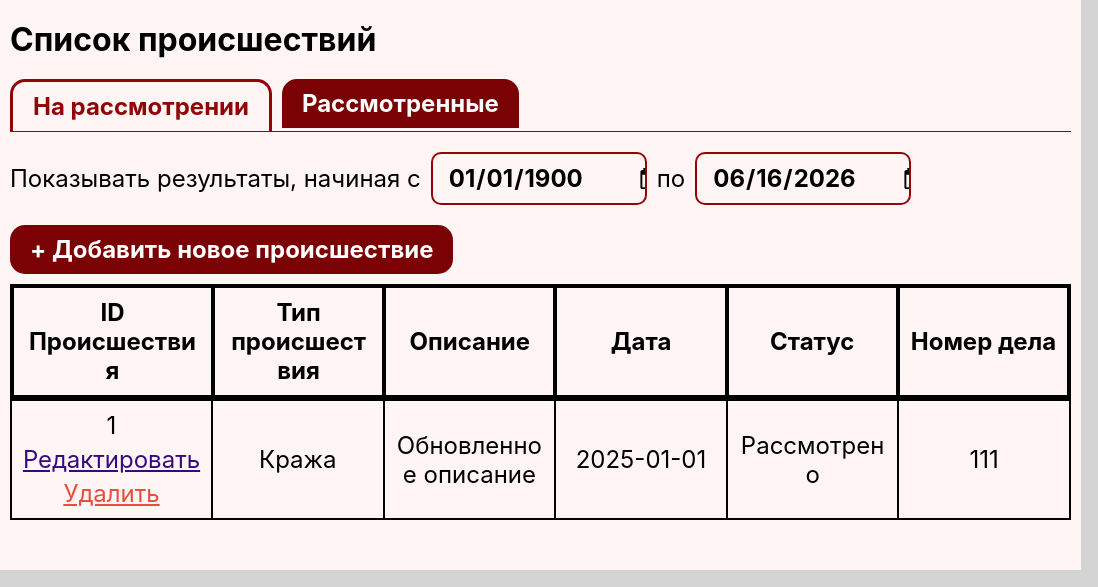
Test: Incidents Page Integration › удаление происшествия
The image size is (1098, 587).
Expected: the button "+ Добавить новое происшествие" is shown, [10,225,454,274]
Click the button "Удалить" at (112, 494), box [63,479,160,508]
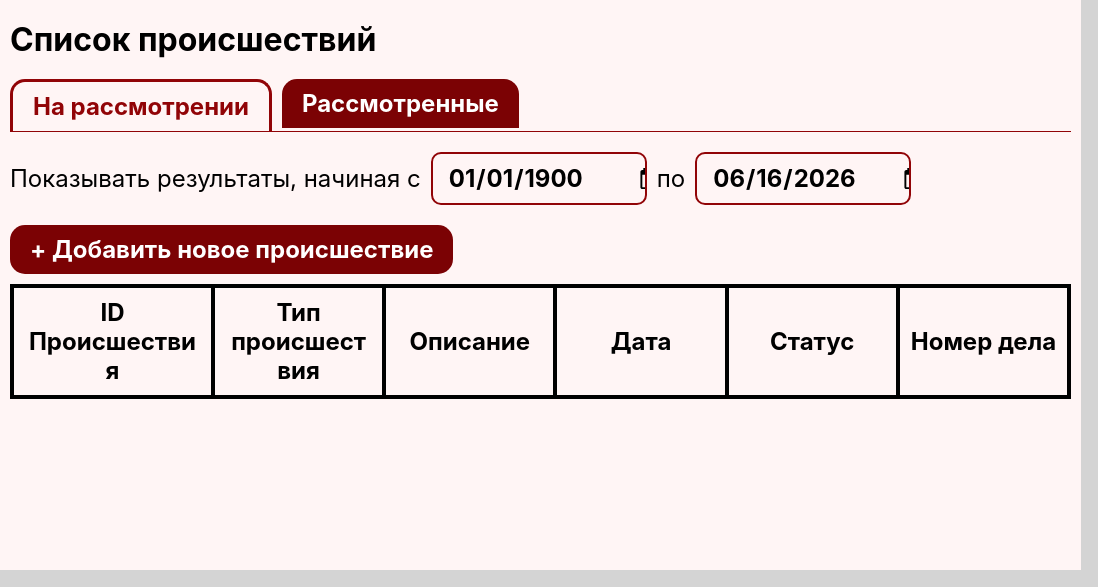
Expected: no buttons "Удалить" are shown
